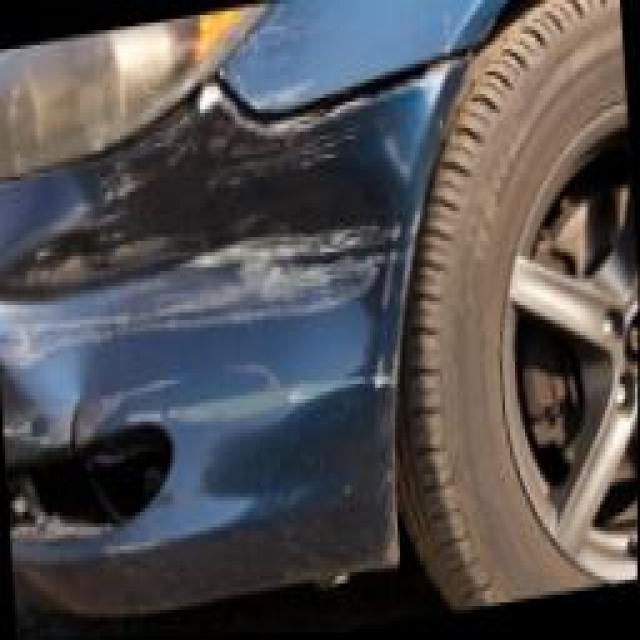Bumper: (0, 64, 465, 633)
